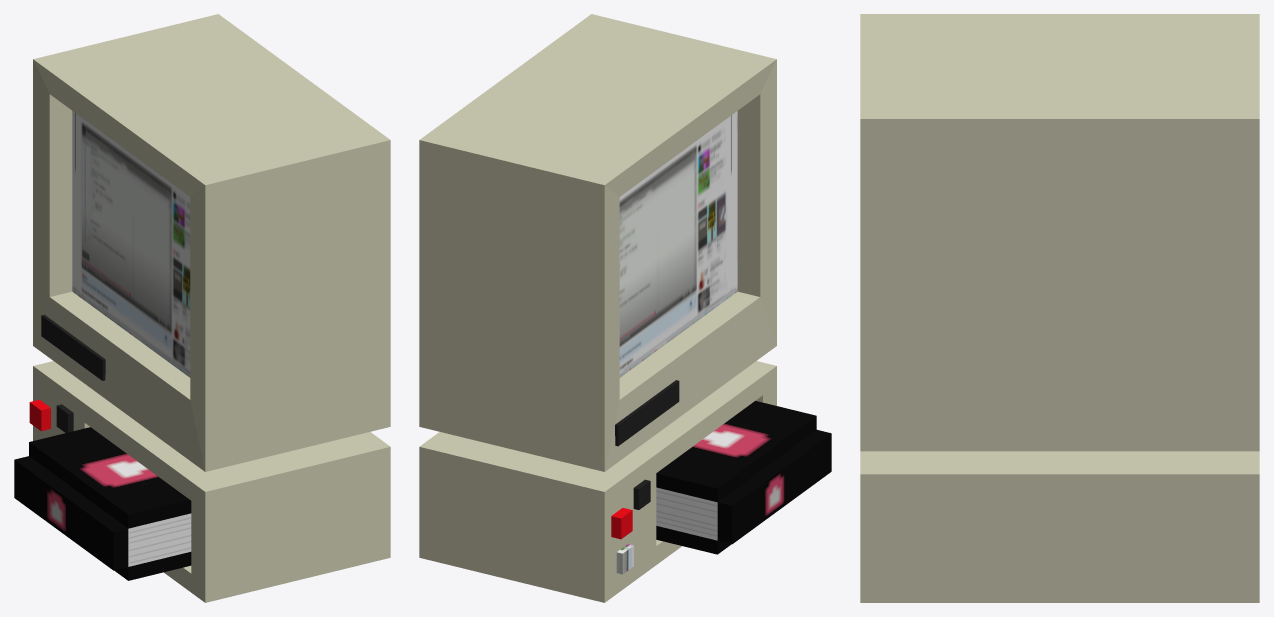
The model's file is Ryan Youtube Computer.fbx.
The picture shows the model from 3 angles, left to right: view 1: azimuth 30°, elevation 25°; view 2: azimuth 150°, elevation 25°; view 3: azimuth 270°, elevation 25°; orthographic projection. The views are drawn at different scales.
Visible parts, largest first — view 1: Cube, Youtube Corner.001; view 2: Cube, Youtube Corner.001; view 3: Cube.
Boxes of the visible parts, x1,y1,x2,y2 form: Cube: (29,14,390,602); Youtube Corner.001: (14,427,191,580); Cube: (419,14,776,602); Youtube Corner.001: (656,401,831,554); Cube: (860,14,1259,602).
Size of the model in its own units: 102 by 158 by 118.
